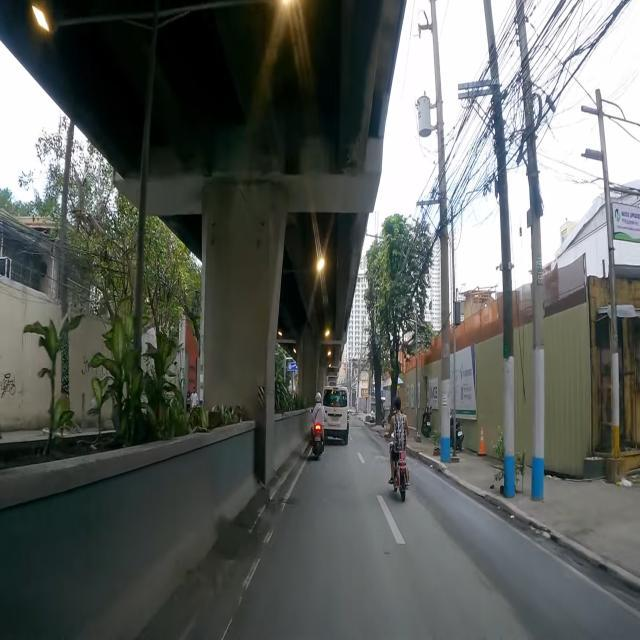car: (322, 385, 349, 448)
motorcycle: (386, 397, 410, 503), (310, 391, 328, 460), (450, 410, 464, 454), (421, 403, 432, 440)
